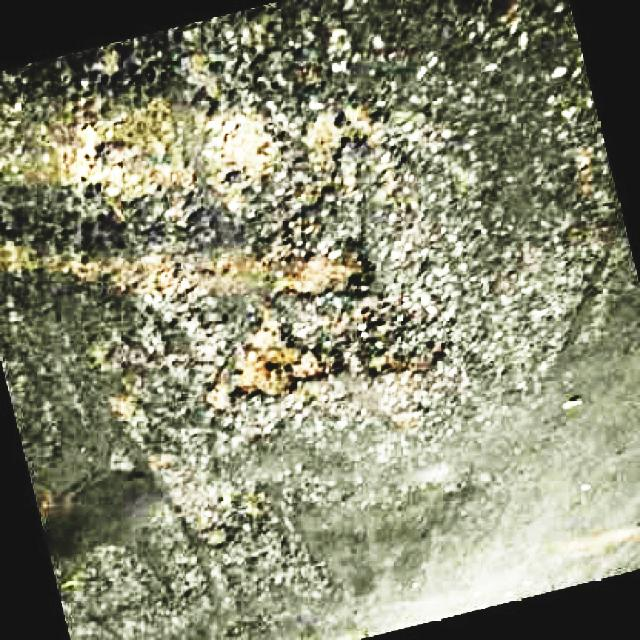pothole: (195, 224, 448, 413)
